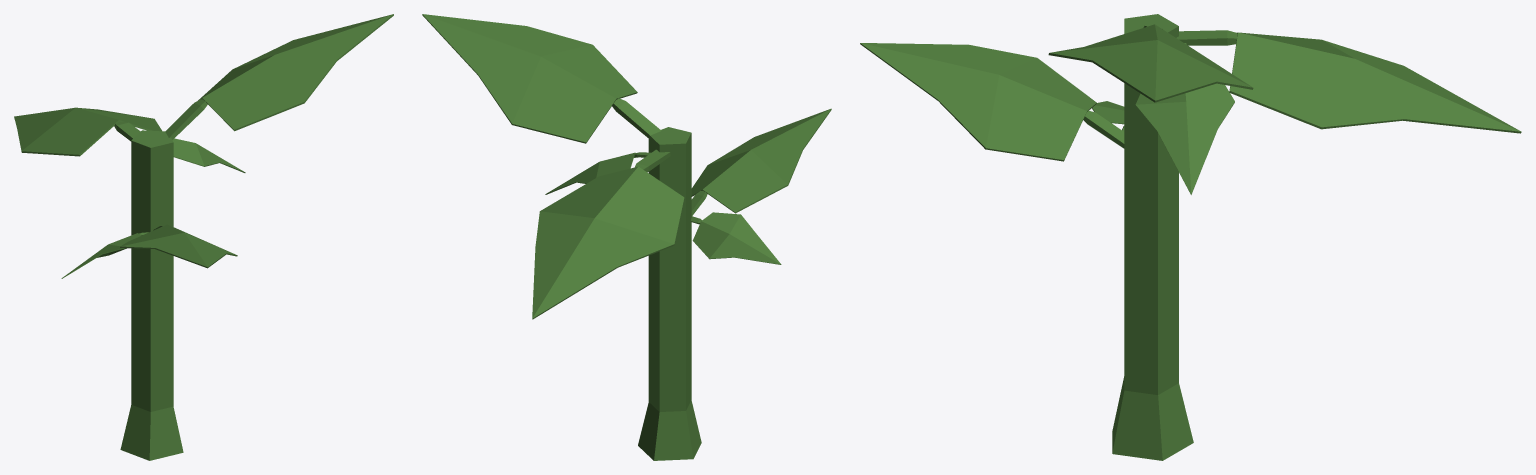
File: TomatoPlant_Stage_01.fbx
3 views of the same model, side by side, from view 1: azimuth 30°, elevation 25°; view 2: azimuth 150°, elevation 25°; view 3: azimuth 270°, elevation 25° (orthographic). The views are drawn at different scales.
Visible parts, largest first — view 1: TomatoPlant_Stage_01; view 2: TomatoPlant_Stage_01; view 3: TomatoPlant_Stage_01.
Boxes of the visible parts, box(x1,y1,x2,y2) form: TomatoPlant_Stage_01: box(14, 14, 393, 460); TomatoPlant_Stage_01: box(422, 14, 831, 460); TomatoPlant_Stage_01: box(860, 14, 1521, 460).
Bounding box in the file's own units: 123 × 127 × 151.
